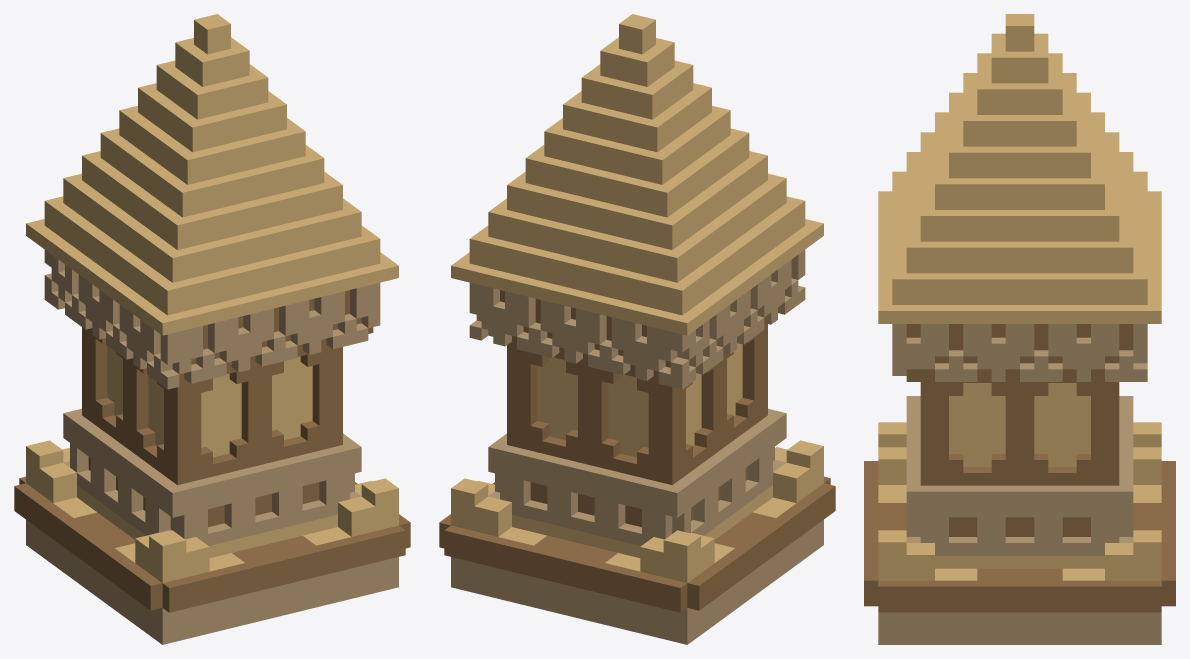
The model's file is TemplePillar.obj.
3 views of the same model, side by side, from view 1: azimuth 30°, elevation 25°; view 2: azimuth 150°, elevation 25°; view 3: azimuth 270°, elevation 25° (orthographic). The views are drawn at different scales.
Bounding box in the file's own units: 2.2 × 4.4 × 2.2.
1 material, 1 textured.
